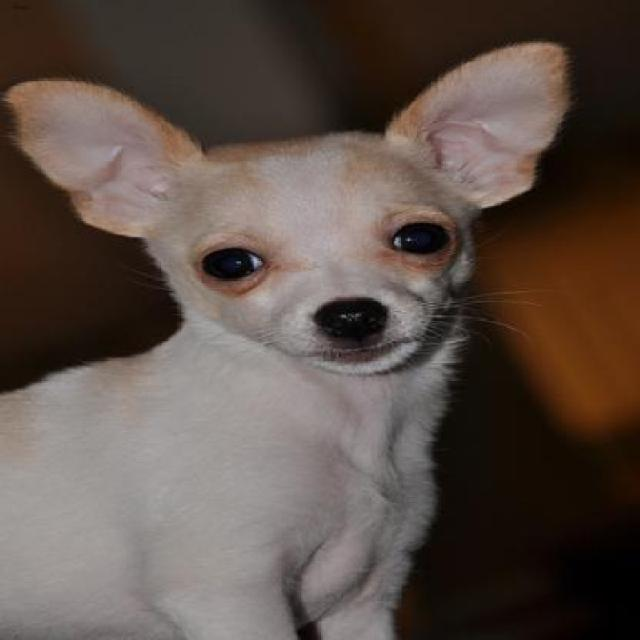Dog: (0, 39, 577, 638)
